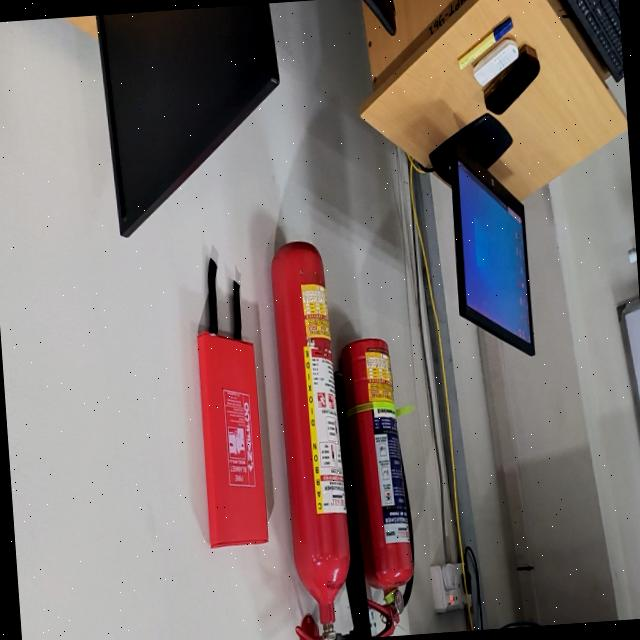Chair: (362, 0, 396, 35)
Fire Extinguisher: (271, 241, 350, 640), (341, 338, 413, 637)
Keyboard: (566, 0, 624, 81)
Monitor: (97, 3, 279, 236), (430, 114, 534, 355)
